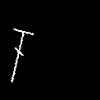double_crochet: (11, 29, 32, 81)
